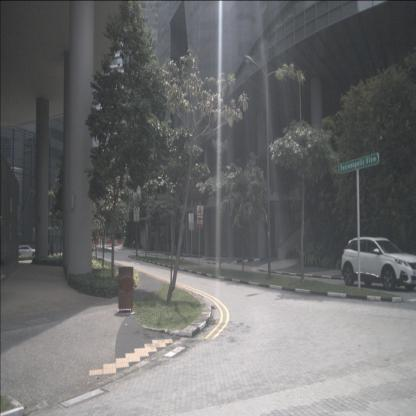human-pedestrian-adult: (46, 240, 50, 259), (50, 241, 54, 259)
movable_object-barrier: (112, 239, 118, 245), (117, 239, 123, 245), (98, 240, 103, 246), (93, 240, 98, 246), (108, 239, 112, 244)
vehicle-car: (341, 235, 415, 292), (15, 245, 38, 259)
